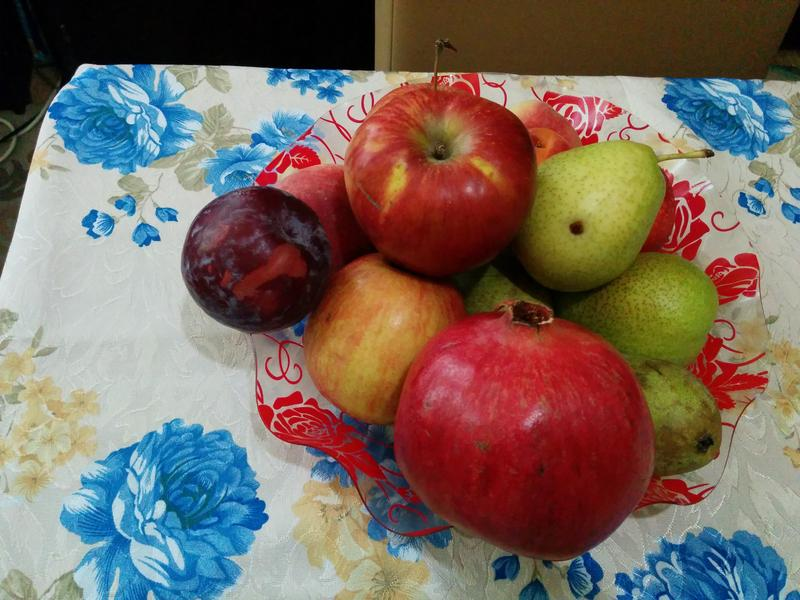apple: (343, 78, 550, 275)
